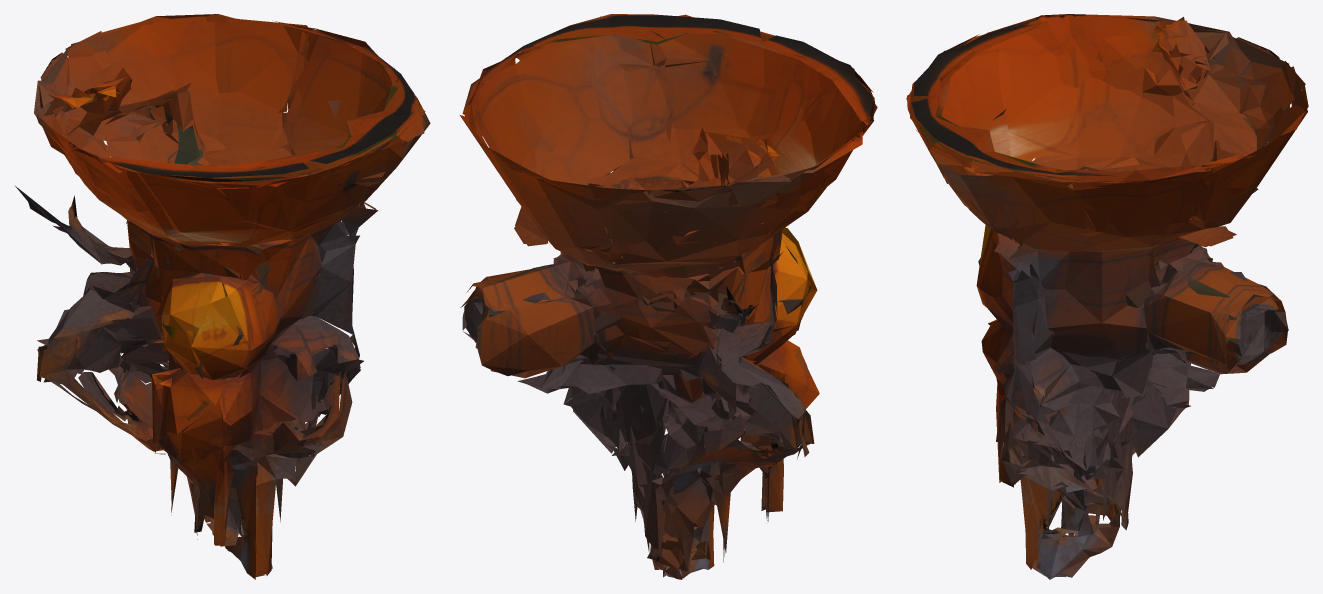
File: bio_lab_t1.fbx
3 renders of one model, left to right at view 1: azimuth 30°, elevation 25°; view 2: azimuth 150°, elevation 25°; view 3: azimuth 270°, elevation 25°, orthographic. The views are drawn at different scales.
Parts seen in each view (by area): view 1: bio_lab_t1; view 2: bio_lab_t1; view 3: bio_lab_t1.
Boxes of the visible parts, x1,y1,x2,y2 form: bio_lab_t1: (15, 14, 430, 579); bio_lab_t1: (460, 14, 877, 579); bio_lab_t1: (906, 14, 1308, 579).
Bounding box in the file's own units: 1.88 × 2.61 × 1.93.
Materials: 1 (1 with a texture image).
